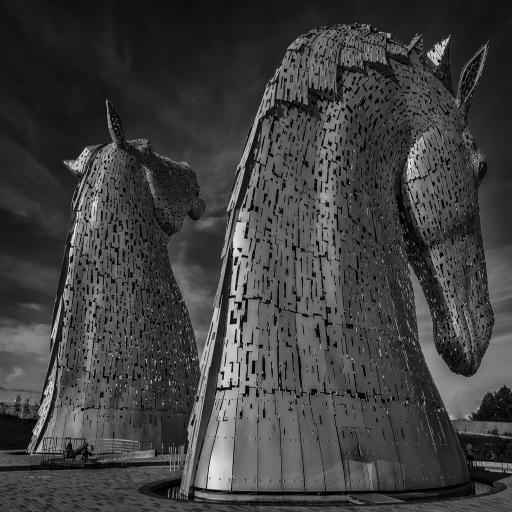horse: (180, 22, 496, 504), (27, 94, 207, 457)
